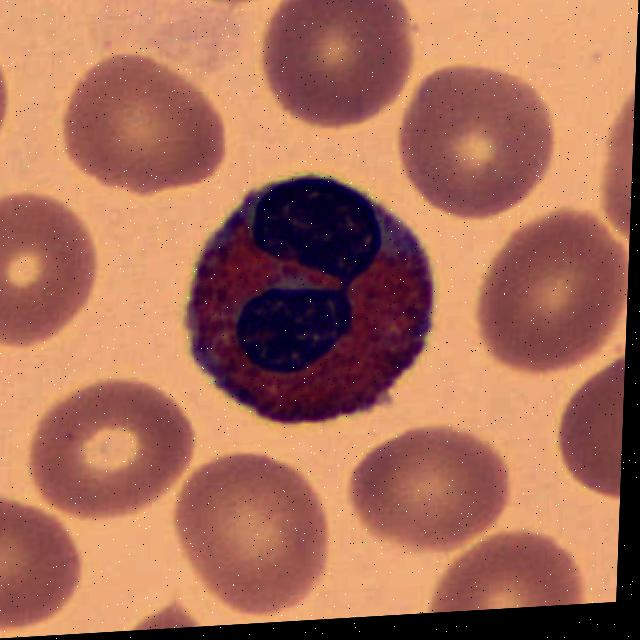eosinophil: (176, 164, 449, 434)
rbc: (470, 204, 631, 380), (171, 448, 330, 621), (47, 54, 237, 198), (31, 375, 203, 529), (399, 68, 561, 226), (348, 411, 520, 554), (257, 0, 421, 134), (0, 182, 100, 361), (415, 522, 601, 614), (0, 488, 84, 633), (544, 357, 625, 497), (600, 89, 635, 243), (131, 596, 202, 631)
